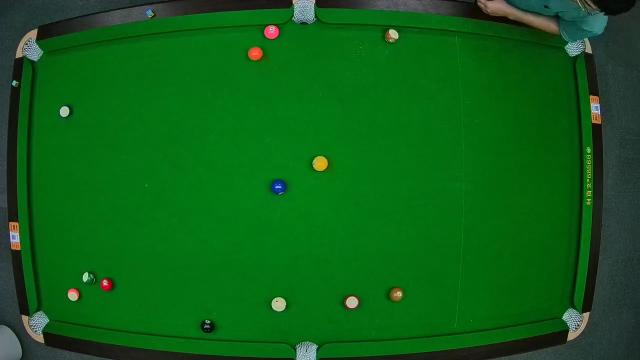bag1: (21, 40, 39, 61)
bag2: (293, 1, 317, 26)
bag3: (568, 37, 588, 57)
bag4: (27, 310, 49, 334)
bag5: (293, 340, 319, 360)
bag6: (560, 308, 584, 330)
ball0: (271, 297, 287, 313)
ball1: (312, 155, 328, 171)
ball10: (58, 105, 74, 119)
ball11: (344, 294, 360, 310)
ball12: (67, 288, 79, 302)
ball14: (80, 272, 96, 284)
ball15: (384, 28, 400, 44)
ball2: (270, 179, 288, 195)
ball3: (99, 276, 113, 292)
ball4: (264, 24, 280, 40)
ball5: (248, 46, 264, 62)
ball7: (388, 286, 404, 302)
ball8: (200, 318, 217, 334)
